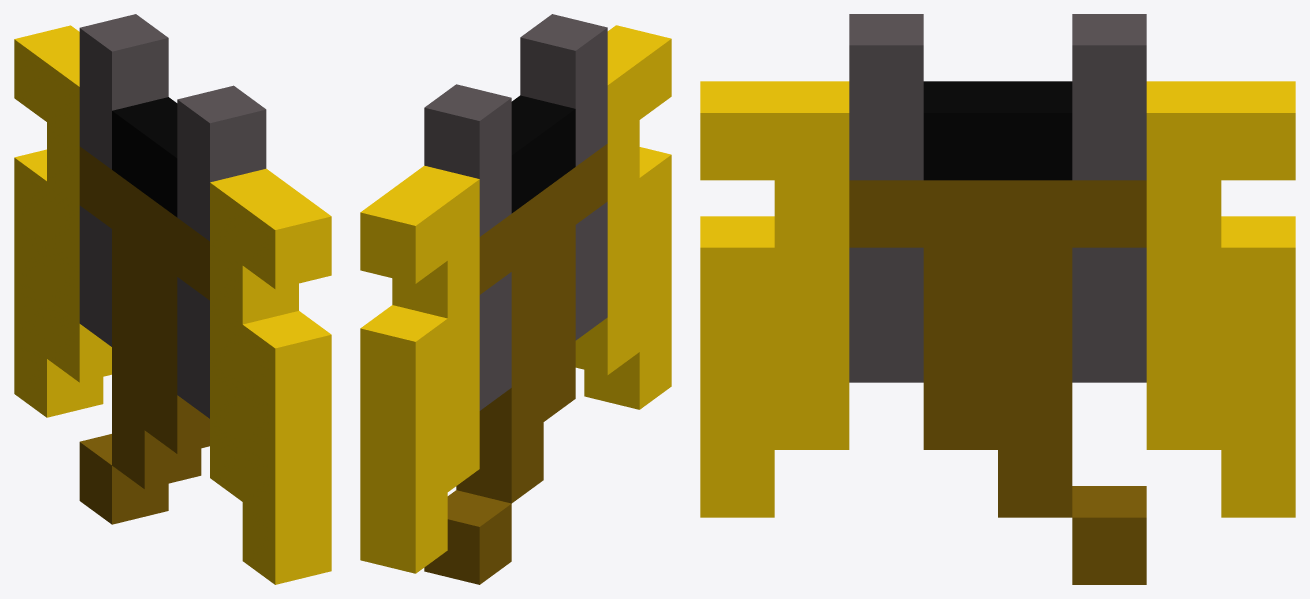
Rendered from AA_P&W_ShipScorpionRight.fbx.
The picture shows the model from 3 angles, left to right: view 1: azimuth 30°, elevation 25°; view 2: azimuth 150°, elevation 25°; view 3: azimuth 270°, elevation 25°; orthographic projection. The views are drawn at different scales.
Parts seen in each view (by area): view 1: Cube.075, Cube.078, Cube.014, Cube.004, Cube.007, Cube.006, Cube.005, Cube.018, Cube.003, Cube.010, Cube.112, Cube.111 (+30 smaller); view 2: Cube.015, Cube.000, Cube.078, Cube.075, Cube.018, Cube.003, Cube.001, Cube.002, Cube.010, Cube.007, Cube.117, Cube.106 (+30 smaller); view 3: Cube.111, Cube.106, Cube.015, Cube.014, Cube.004, Cube.000, Cube.109, Cube.108, Cube.018, Cube.078, Cube.075, Cube.047 (+30 smaller).
Boxes of the visible parts, <box> form: Cube.075: <box>79,14,168,110</box>; Cube.078: <box>177,85,266,182</box>; Cube.014: <box>242,192,331,289</box>; Cube.004: <box>242,311,331,407</box>; Cube.007: <box>242,502,331,584</box>; Cube.006: <box>242,384,331,466</box>; Cube.005: <box>242,443,331,525</box>; Cube.018: <box>79,434,168,524</box>; Cube.003: <box>14,335,103,417</box>; Cube.010: <box>112,406,201,489</box>; Cube.112: <box>210,242,298,324</box>; Cube.111: <box>210,168,298,264</box>; Cube.015: <box>360,189,447,283</box>; Cube.000: <box>360,305,447,399</box>; Cube.078: <box>520,14,607,108</box>; Cube.075: <box>424,84,511,178</box>; Cube.018: <box>424,490,511,584</box>; Cube.003: <box>360,493,447,573</box>; Cube.001: <box>360,435,447,515</box>; Cube.002: <box>360,377,447,457</box>; Cube.010: <box>456,422,543,503</box>; Cube.007: <box>584,329,671,409</box>; Cube.117: <box>392,237,479,318</box>; Cube.106: <box>393,165,479,259</box>; Cube.111: <box>774,81,849,180</box>; Cube.106: <box>1146,81,1221,180</box>; Cube.015: <box>1221,81,1295,180</box>; Cube.014: <box>700,81,774,180</box>; Cube.004: <box>700,216,774,315</box>; Cube.000: <box>1221,216,1295,315</box>; Cube.109: <box>923,81,997,180</box>; Cube.108: <box>998,81,1072,180</box>; Cube.018: <box>1072,486,1146,584</box>; Cube.078: <box>849,14,923,112</box>; Cube.075: <box>1072,14,1146,112</box>; Cube.047: <box>774,247,849,315</box>.
Bounding box in the file's own units: 200 × 1600 × 1600.
